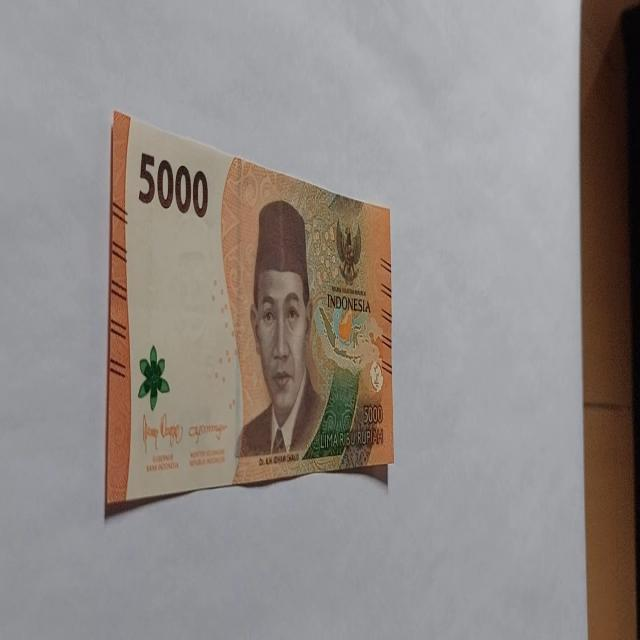lima ribu rupiah: (102, 112, 396, 523), (232, 198, 328, 464)
